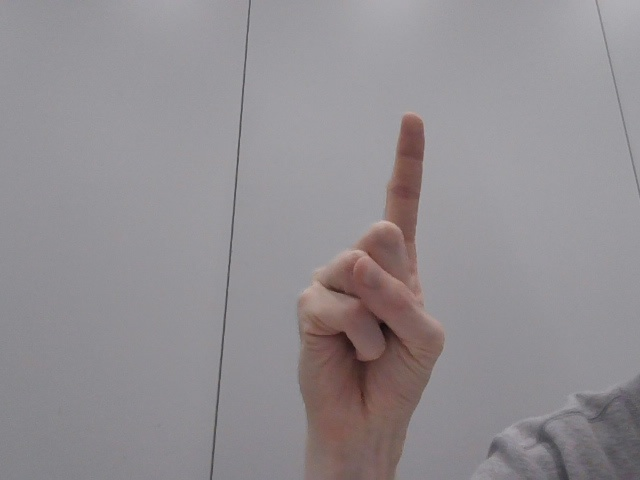up: (273, 104, 454, 463)
